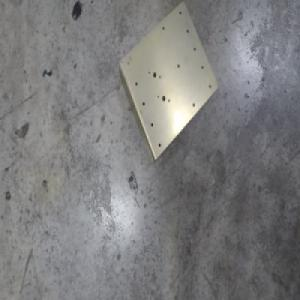MetalSheet: (116, 0, 218, 164)
